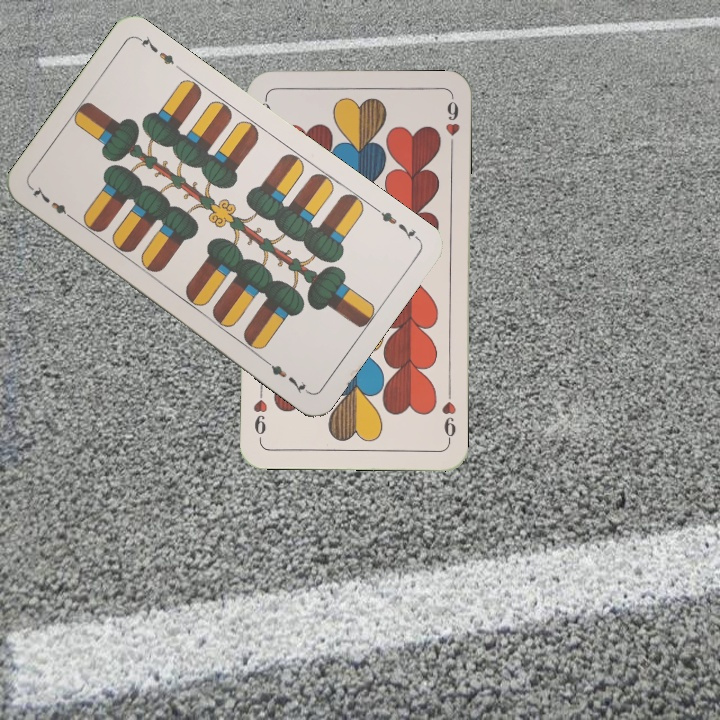E7: (27, 182, 78, 224), (370, 203, 422, 243)
H9: (438, 386, 459, 445)
